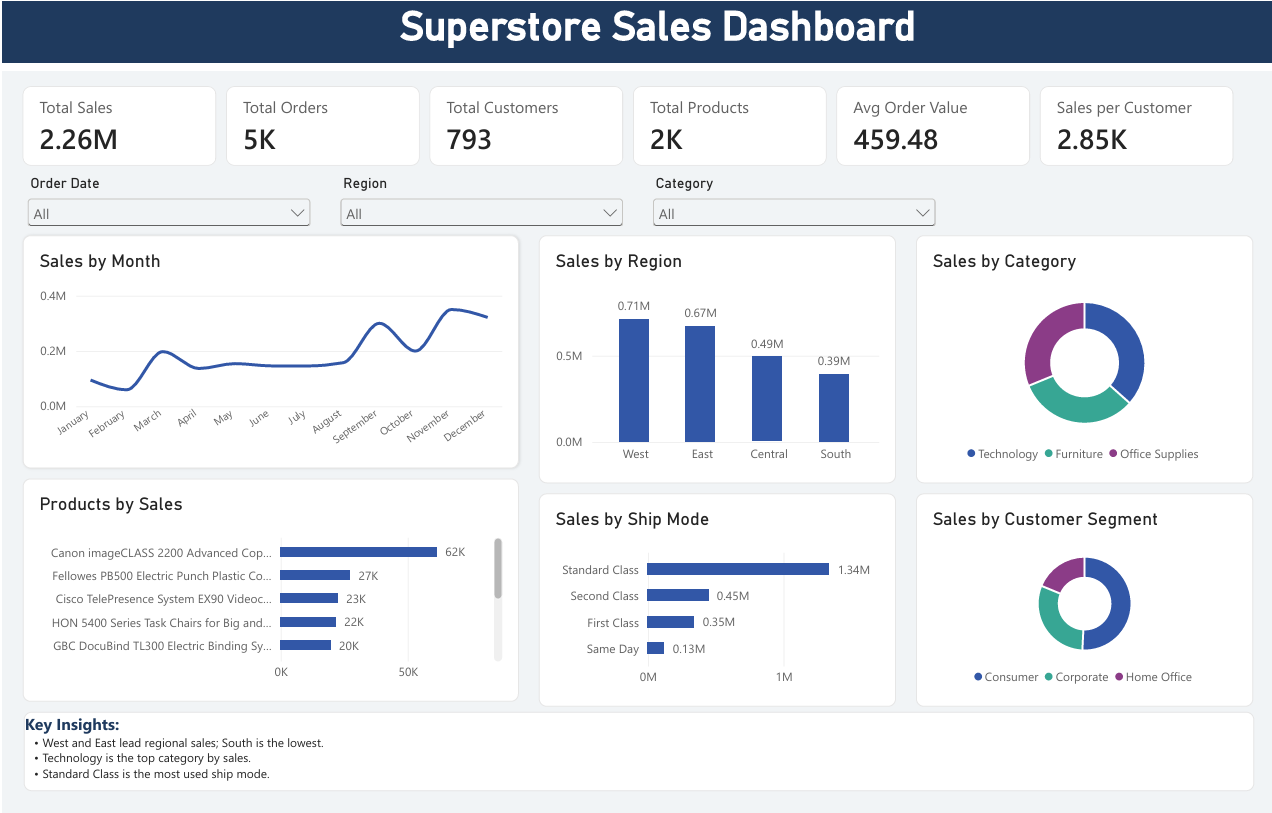

This screenshot's page, from the dashboard's own definition file:
{"tool":"powerbi","page":{"name":"Page 1","canvas":[1280,820],"ordinal":0},"visuals":[{"type":"cardVisual","fields":{"Data":["Sales_Data.Total Sales"]},"box":[20,85,195,80],"z":0},{"type":"cardVisual","fields":{"Data":["Sales_Data.Total Orders"]},"box":[225,85,195,80],"z":1000},{"type":"cardVisual","fields":{"Data":["Sales_Data.Total Customers"]},"box":[430,85,195,80],"z":2000},{"type":"cardVisual","fields":{"Data":["Sales_Data.Total Products"]},"box":[635,85,195,80],"z":3000},{"type":"lineChart","title":"Sales by Month","fields":{"Category":["Sales_Data.Order Date.Variation.Date Hierarchy.Month"],"Y":["Sales_Data.Total Sales"]},"box":[20,235,500,235],"z":4000},{"type":"clusteredColumnChart","title":"Sales by Region","fields":{"Category":["Sales_Data.Region"],"Y":["Sales_Data.Total Sales"]},"box":[540,235,360,250],"z":5000},{"type":"donutChart","title":"Sales by Category","fields":{"Category":["Sales_Data.Category"],"Y":["Sales_Data.Total Sales"]},"box":[920,235,340,250],"z":6000},{"type":"clusteredBarChart","title":"Products by Sales","fields":{"Category":["Sales_Data.Product Name"],"Y":["Sales_Data.Total Sales"]},"box":[20,480,500,225],"z":7000},{"type":"donutChart","title":"Sales by Customer Segment","fields":{"Category":["Sales_Data.Segment"],"Y":["Sales_Data.Total Sales"]},"box":[920,495,340,215],"z":8000},{"type":"clusteredBarChart","title":"Sales by Ship Mode","fields":{"Category":["Sales_Data.Ship Mode"],"Y":["Sales_Data.Total Sales"]},"box":[540,495,360,215],"z":9000},{"type":"slicer","fields":{"Values":["Sales_Data.Order Date"]},"box":[20,175,295,50],"z":10000},{"type":"slicer","fields":{"Values":["Sales_Data.Region"]},"box":[335,175,295,50],"z":11000},{"type":"slicer","fields":{"Values":["Sales_Data.Category"]},"box":[650,175,295,50],"z":12000},{"type":"textbox","box":[972.5,365,442.5,27.5],"z":13000},{"type":"textbox","title":"Superstore Sales Dashboard","box":[0,0,1320,70],"z":14000},{"type":"cardVisual","fields":{"Data":["Sales_Data.Avg Order Value"]},"box":[840,85,195,80],"z":15000},{"type":"cardVisual","fields":{"Data":["Sales_Data.Sales per Customer"]},"box":[1045,85,195,80],"z":16000},{"type":"textbox","box":[20.6,715,1240,80],"z":17000}]}

Visuals, with their boxes in screenshot pixels (x1, y1, x2, y2), scaled from the page's 1280x820 canvas onto the 1272x813 screenshot:
cardVisual - Sales_Data.Total Sales: rect(20, 84, 214, 164)
cardVisual - Sales_Data.Total Orders: rect(224, 84, 417, 164)
cardVisual - Sales_Data.Total Customers: rect(427, 84, 621, 164)
cardVisual - Sales_Data.Total Products: rect(631, 84, 825, 164)
"Sales by Month" lineChart: rect(20, 233, 517, 466)
"Sales by Region" clusteredColumnChart: rect(537, 233, 894, 481)
"Sales by Category" donutChart: rect(914, 233, 1252, 481)
"Products by Sales" clusteredBarChart: rect(20, 476, 517, 699)
"Sales by Customer Segment" donutChart: rect(914, 491, 1252, 704)
"Sales by Ship Mode" clusteredBarChart: rect(537, 491, 894, 704)
slicer - Sales_Data.Order Date: rect(20, 174, 313, 223)
slicer - Sales_Data.Region: rect(333, 174, 626, 223)
slicer - Sales_Data.Category: rect(646, 174, 939, 223)
textbox: rect(966, 362, 1271, 389)
"Superstore Sales Dashboard" textbox: rect(0, 0, 1271, 69)
cardVisual - Sales_Data.Avg Order Value: rect(835, 84, 1029, 164)
cardVisual - Sales_Data.Sales per Customer: rect(1038, 84, 1232, 164)
textbox: rect(20, 709, 1253, 788)
